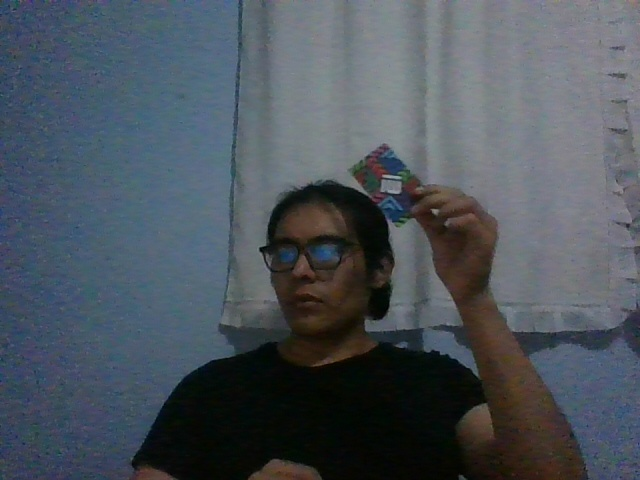tarjeta: (347, 142, 423, 227)
